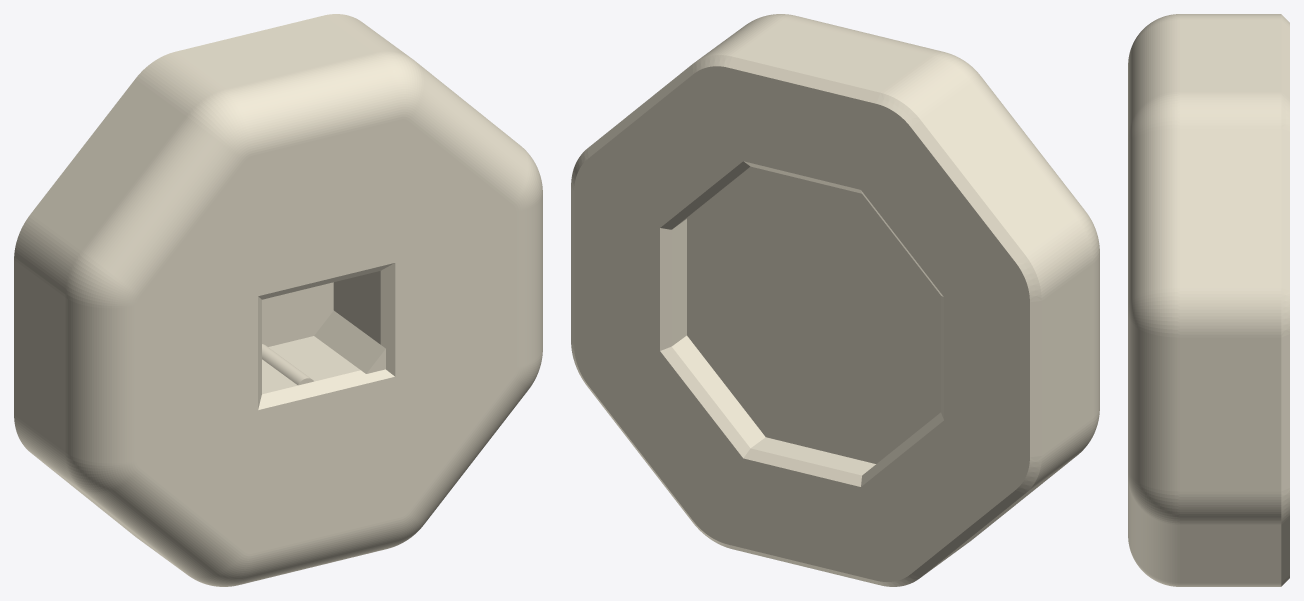
Rendered from base@ivory.glb.
3 views of the same model, side by side, from view 1: azimuth 30°, elevation 25°; view 2: azimuth 150°, elevation 25°; view 3: azimuth 270°, elevation 25° (orthographic).
Parts seen in each view (by area): view 1: geometry_0; view 2: geometry_0; view 3: geometry_0.
Part boxes in pixels (x1=…): geometry_0: x1=14, y1=14, x2=542, y2=586; geometry_0: x1=571, y1=14, x2=1099, y2=586; geometry_0: x1=1128, y1=14, x2=1289, y2=586.
Size of the model in its own units: 25 by 25 by 7.5.
